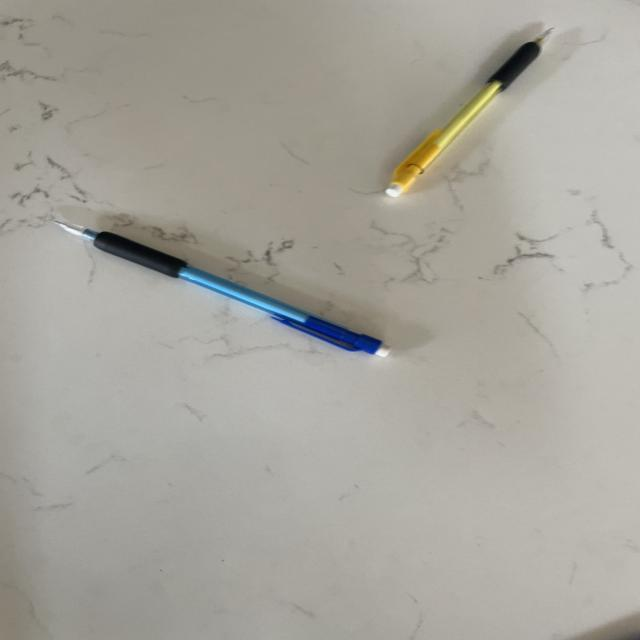mechanical-pencils: (53, 211, 403, 366), (379, 27, 565, 204)
